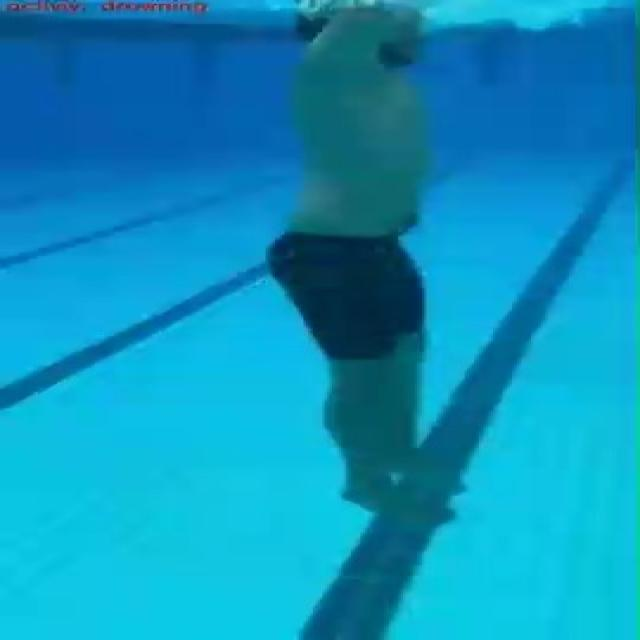Drowning: (256, 0, 486, 523)
